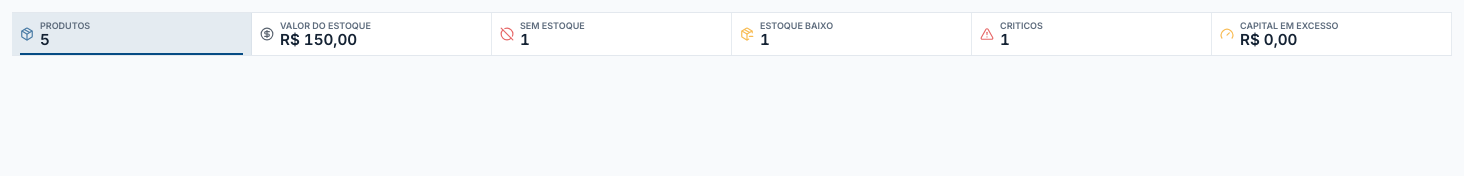
it: EstoqueSummaryCards › explica fonte, periodo e regra de Capital em excesso em tooltip acessivel
The image size is (1464, 176).
Focus the button "Capital em excesso R$ 0,00": [1332, 34] box 1212,13 -> 1452,55
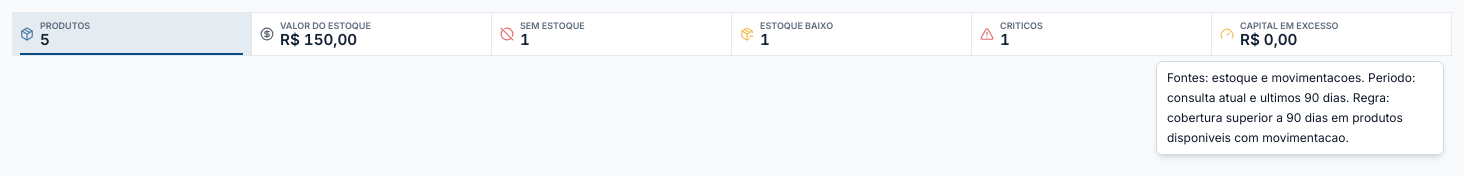
Expected: the tooltip shows "Fontes: estoque e movimentacoes", 1167,70 -> 1415,145
Expected: the tooltip shows "Periodo: consulta atual e ultimos 90 dias", 1167,70 -> 1415,145
Expected: the tooltip shows "Regra: cobertura superior a 90 dias", 1167,70 -> 1415,145
